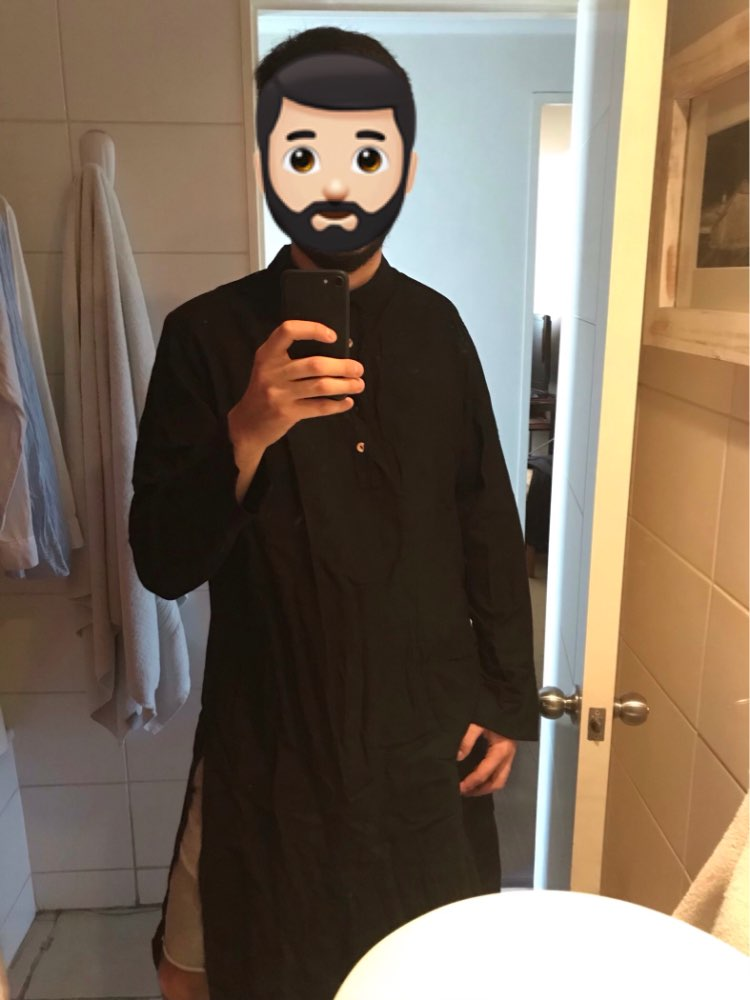shirts: (163, 256, 536, 980)
